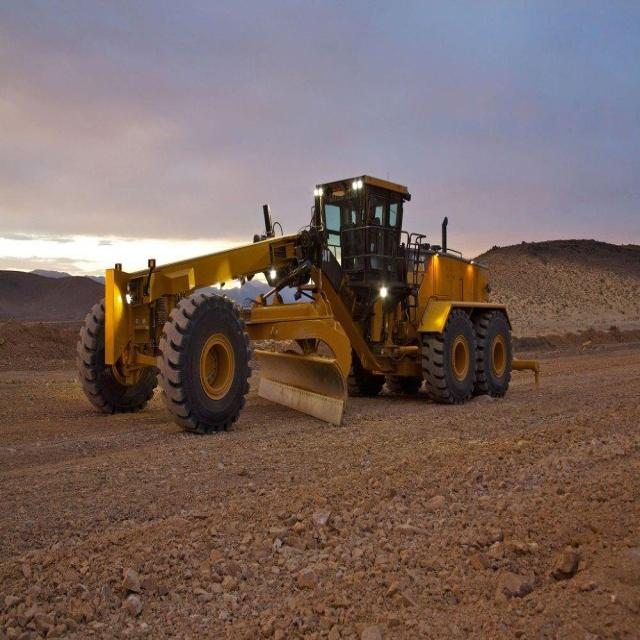buldozerpayloadergrader: (71, 166, 548, 436)
